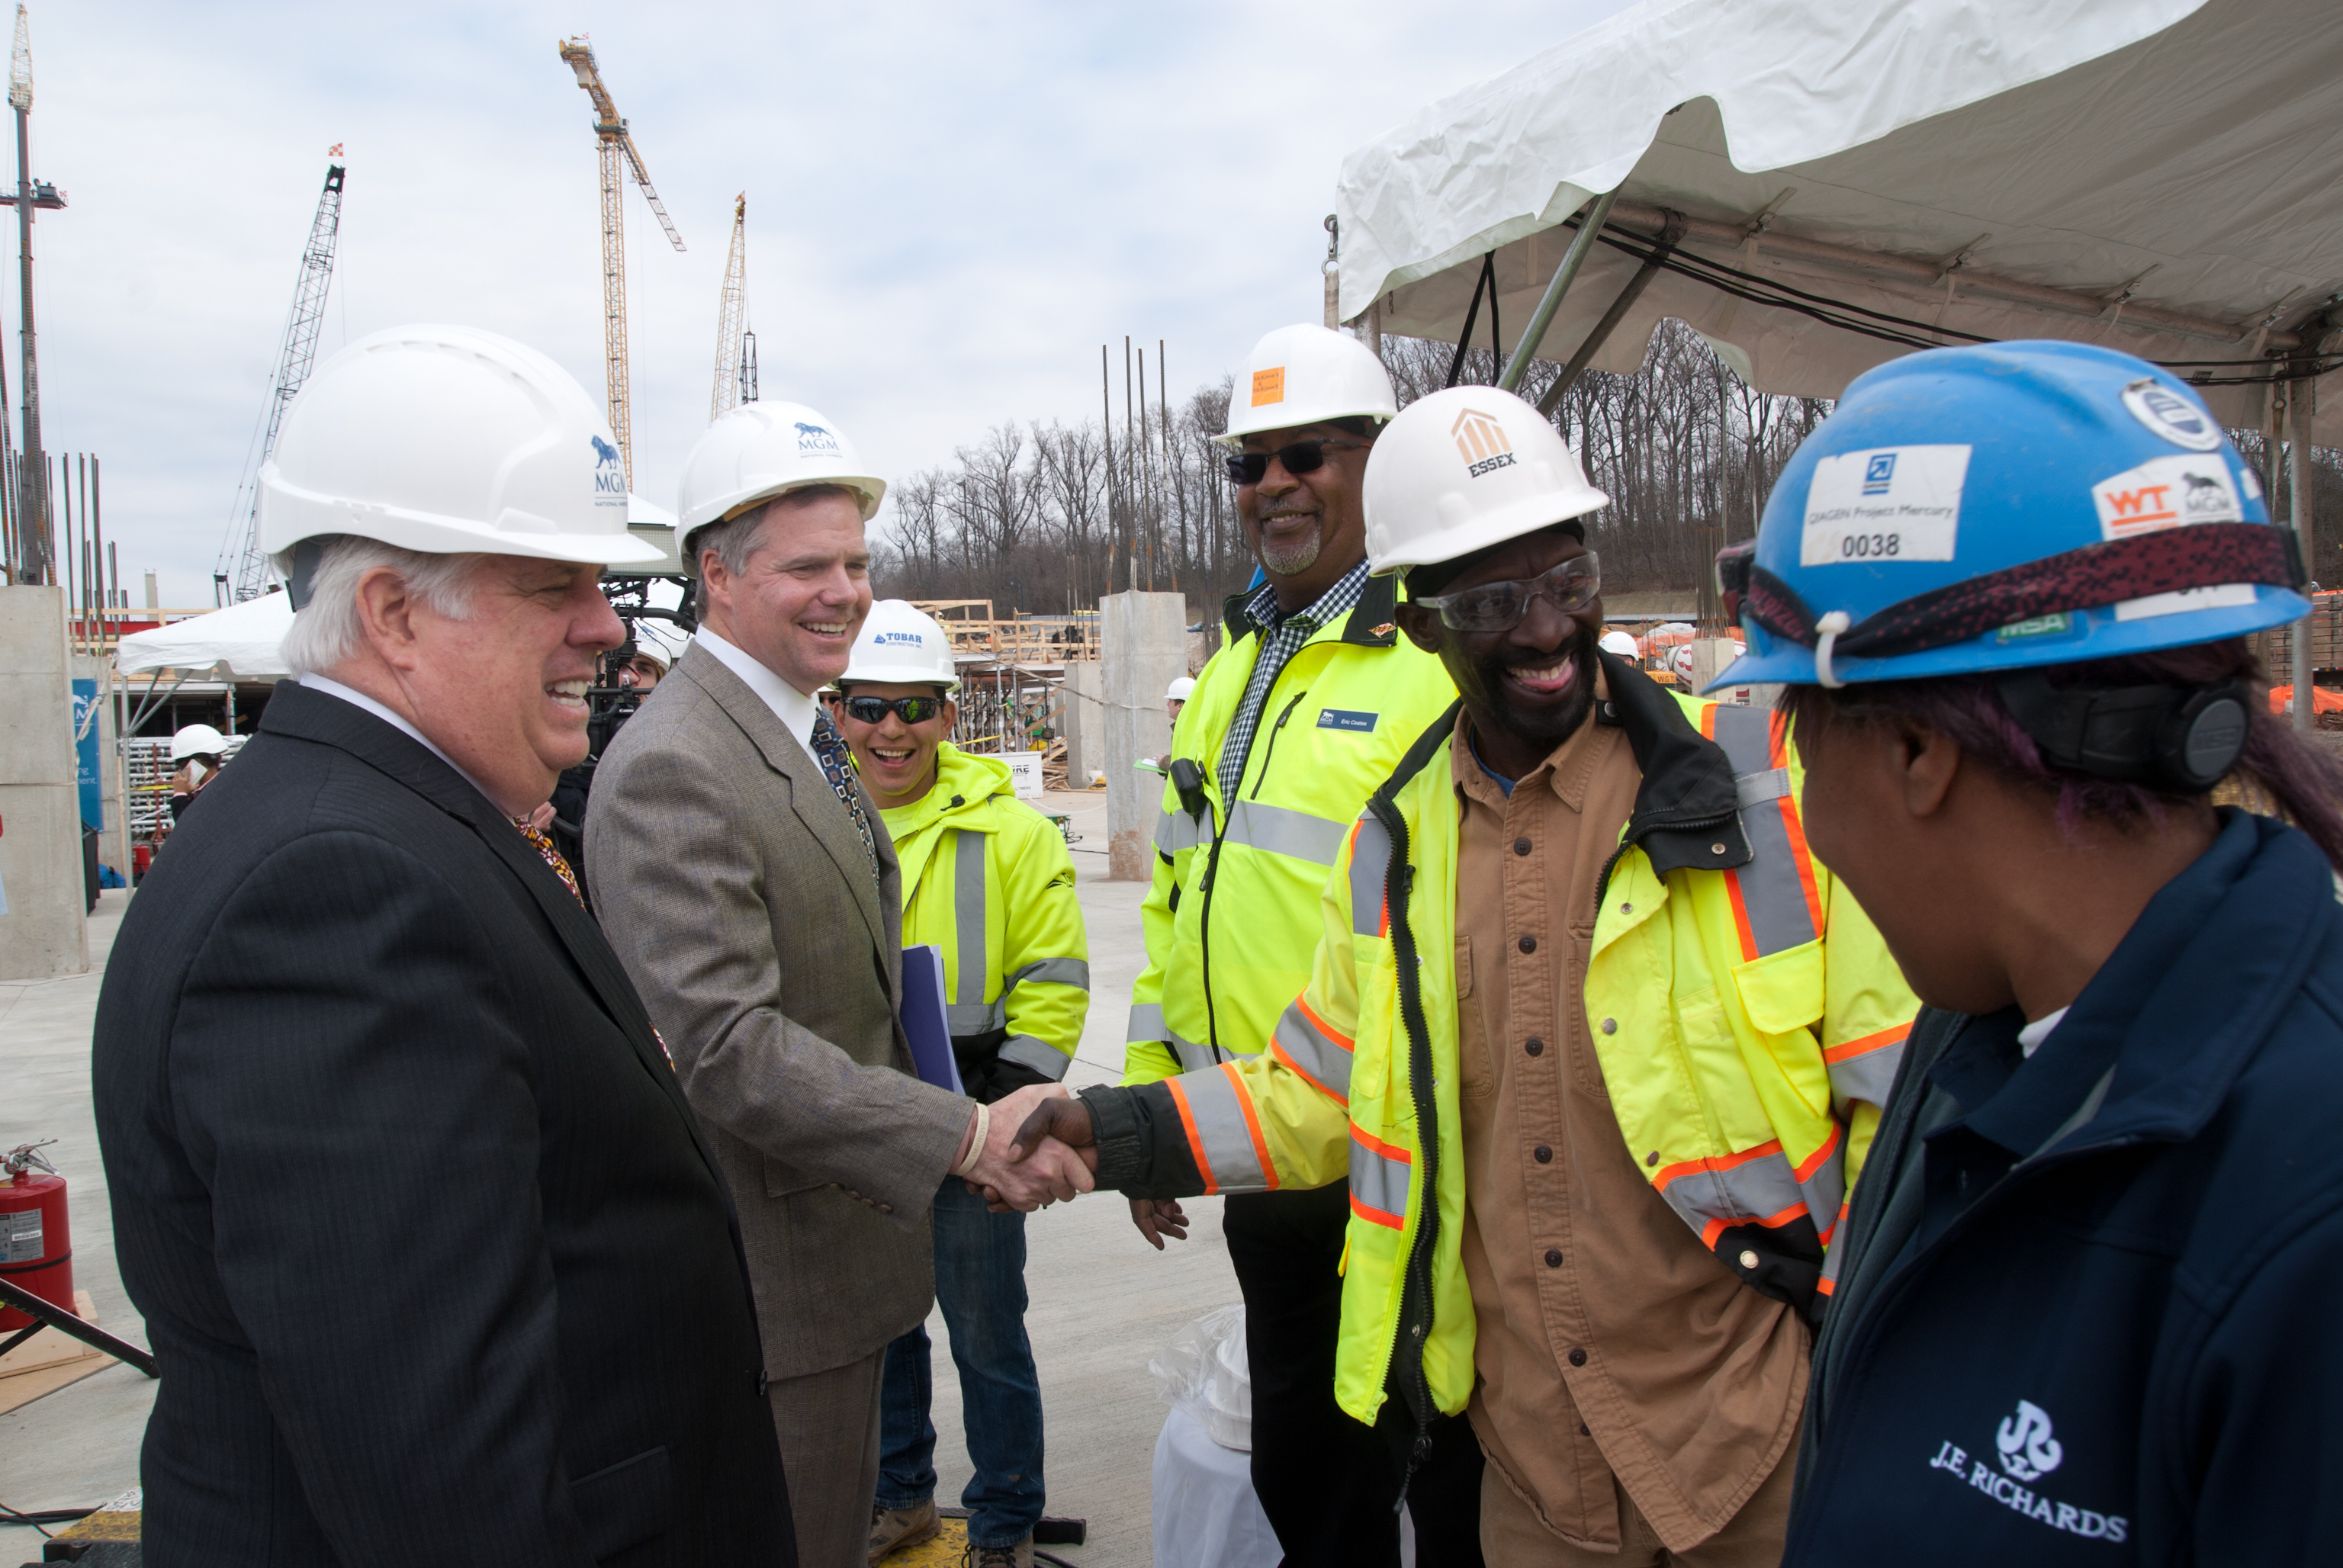Hard Hat: (1686, 329, 2320, 1027), (201, 340, 667, 805), (1345, 387, 1618, 759), (674, 395, 894, 693), (1194, 313, 1399, 607), (827, 602, 970, 798)
Person: (37, 327, 789, 1556), (1688, 331, 2339, 1565), (1322, 400, 1905, 1568), (630, 403, 1078, 1554), (1127, 326, 1480, 1564), (815, 597, 1100, 1568)
Vest: (1340, 516, 1871, 1419), (1106, 440, 1470, 1229), (818, 684, 1102, 1076)
